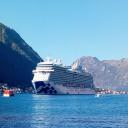cruises: (31, 55, 98, 97)
